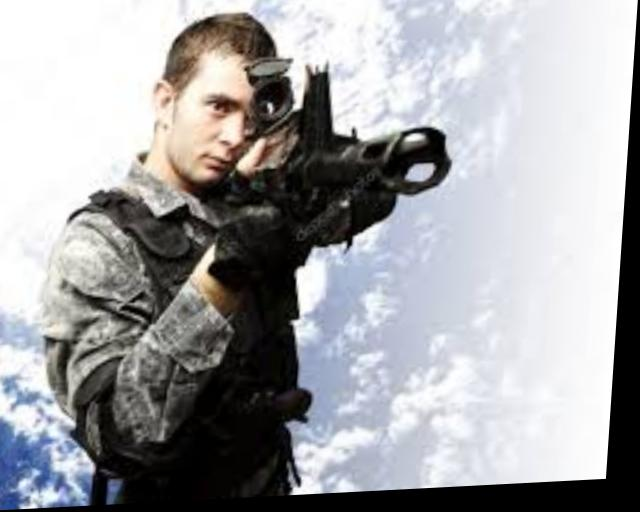other: (42, 11, 325, 499)
